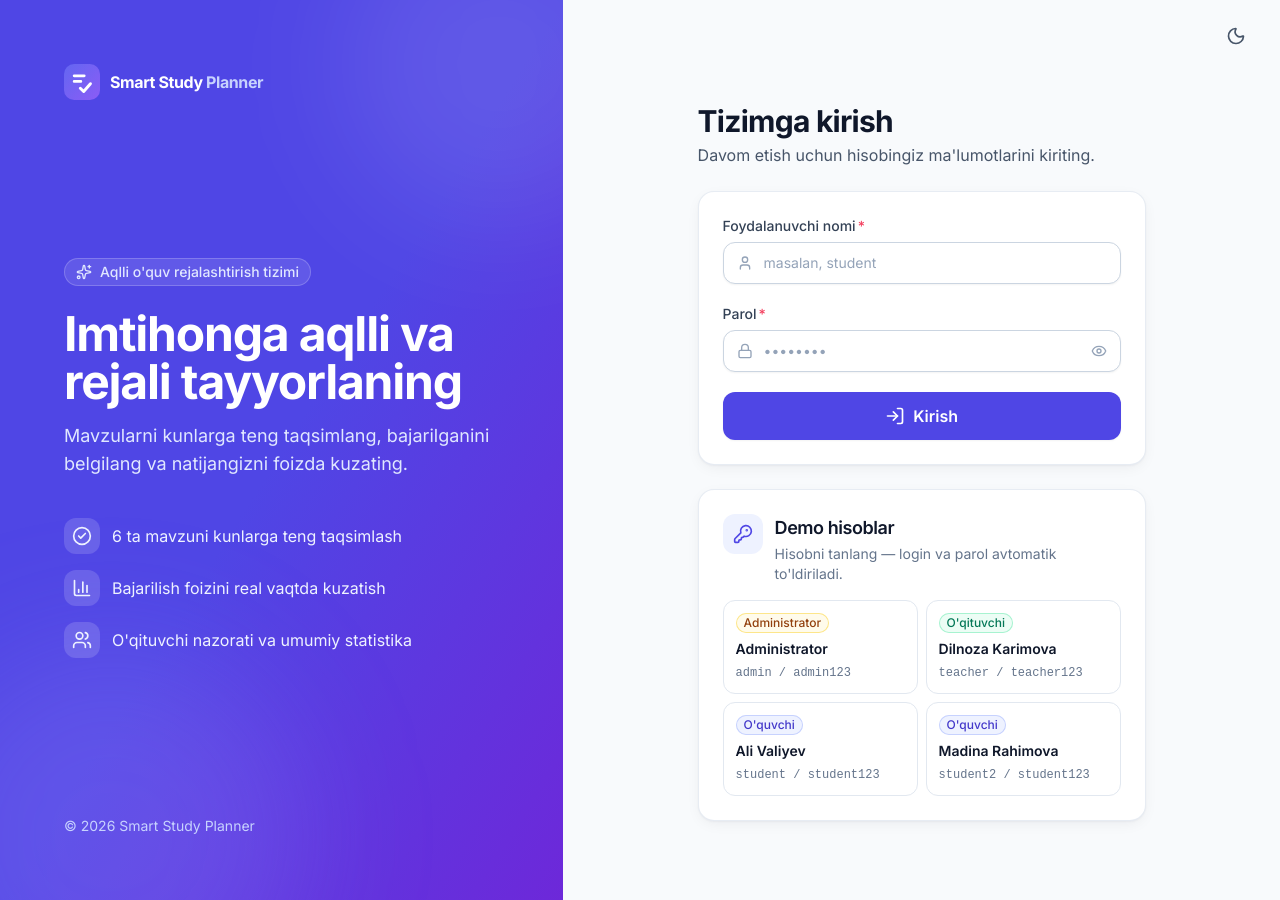
Test case: LoginPage › shows the server message on wrong credentials
In the field labelled "Foydalanuvchi nomi*": [922, 263] box left=723, top=242, right=1121, bottom=284, type "student"
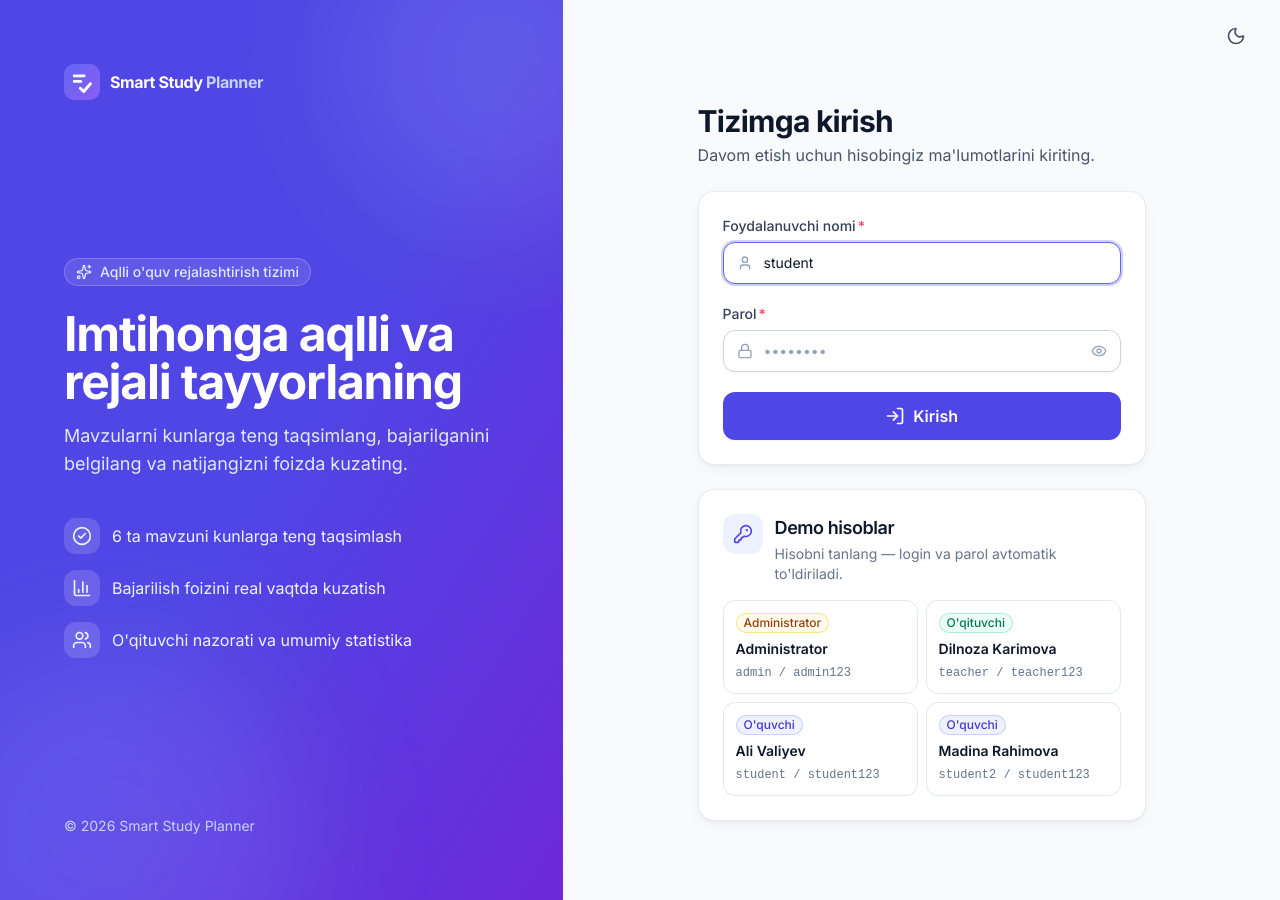
In the password field labelled "Parol*": [922, 351] box left=723, top=330, right=1121, bottom=372, type "wrong"
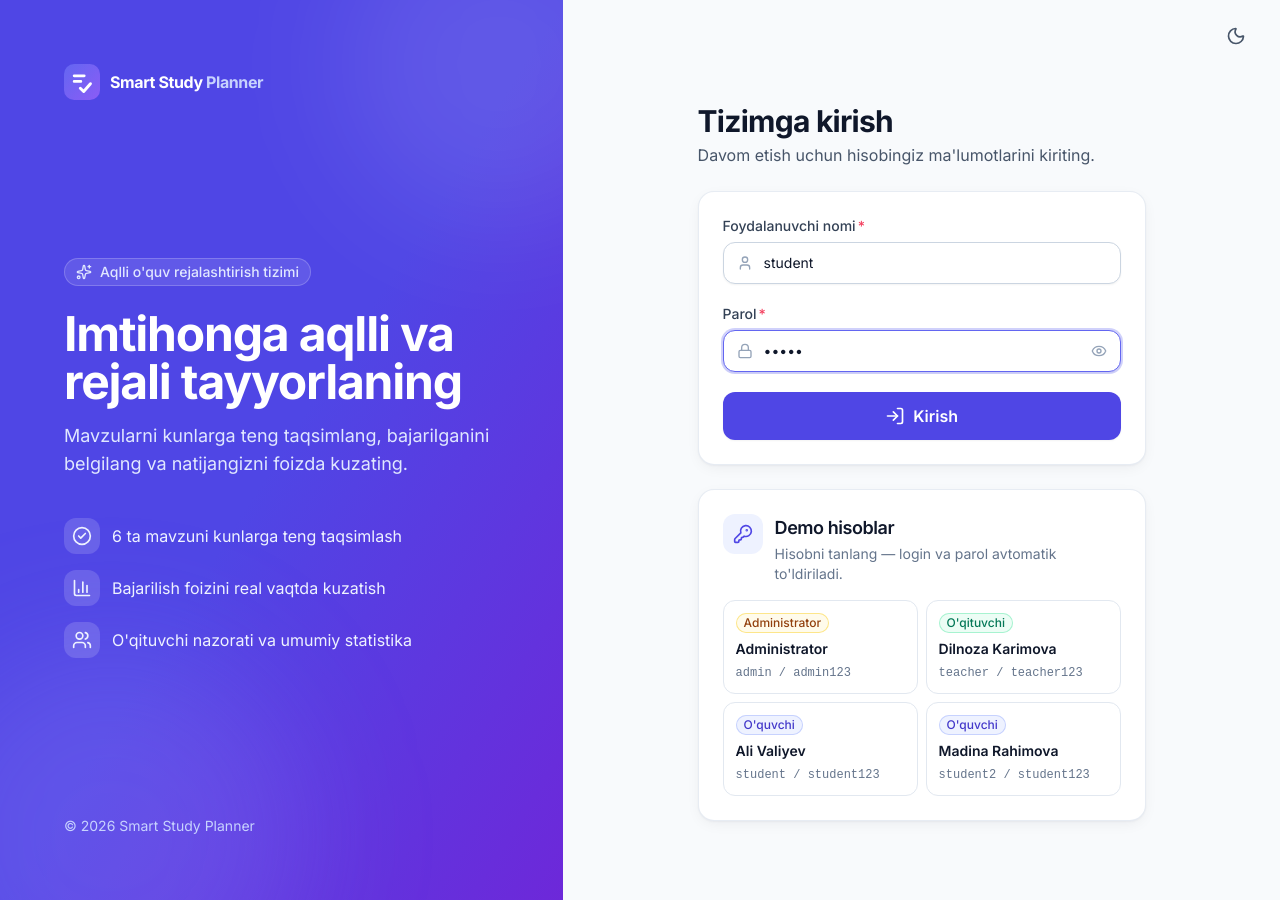
Click the button "Kirish": [922, 416] box left=723, top=392, right=1121, bottom=440
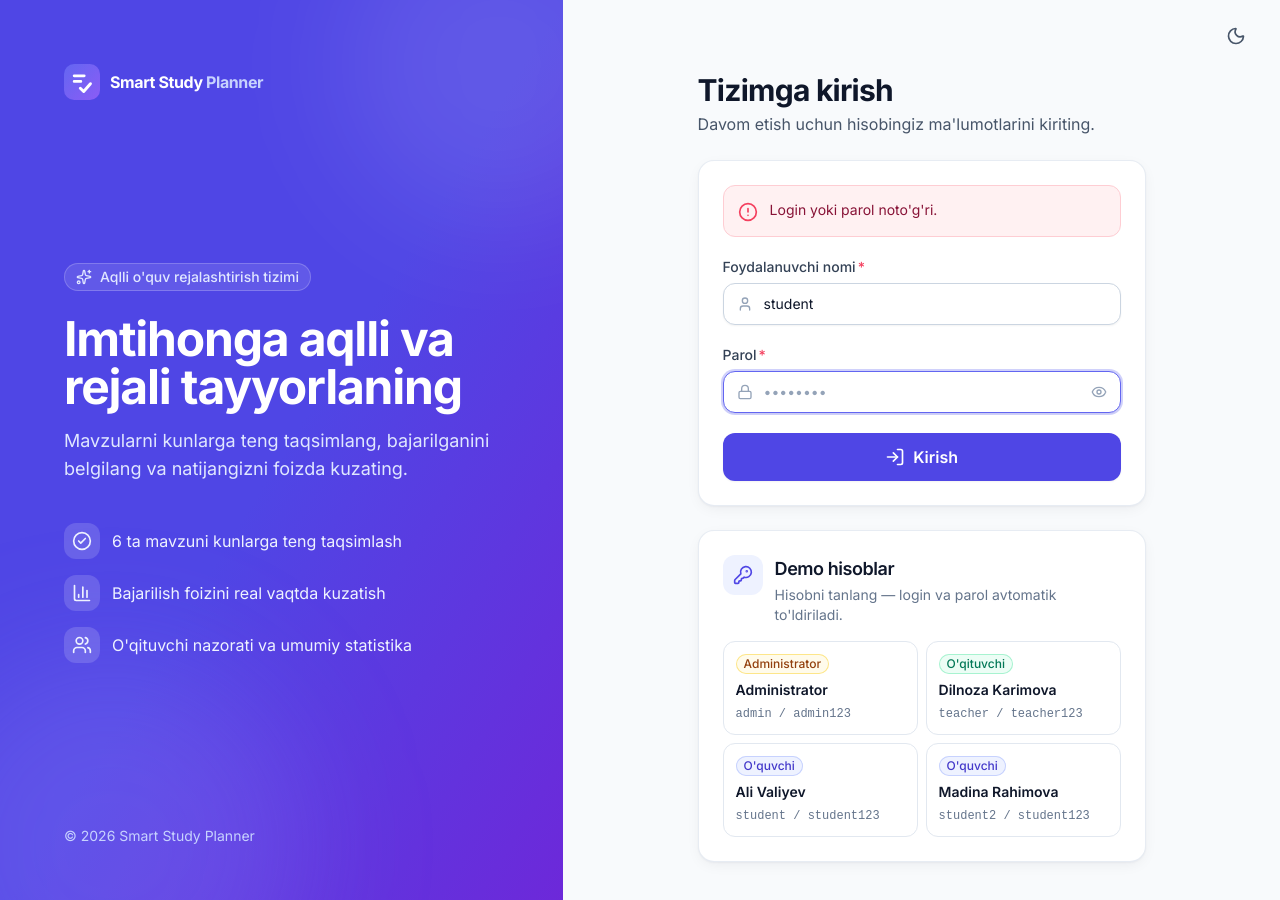
Now the text "Login yoki parol noto'g'ri." is shown, box left=770, top=201, right=937, bottom=218
Now the password field labelled "Parol*" is empty, box left=723, top=371, right=1121, bottom=413
